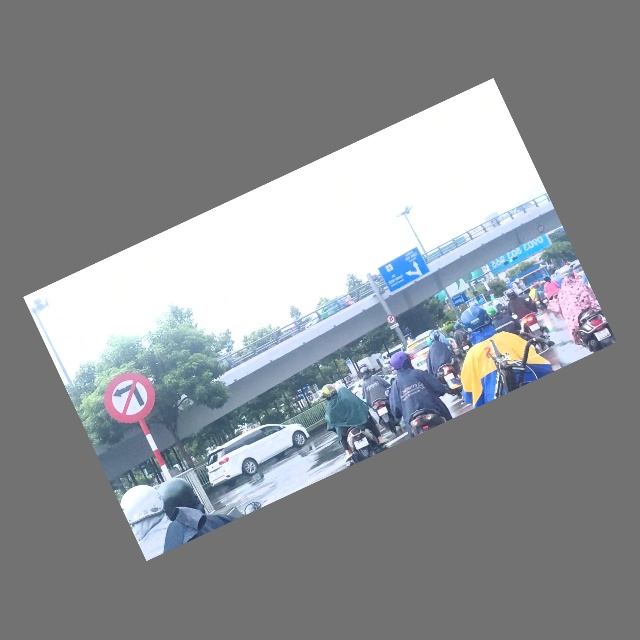P.123b: (92, 361, 169, 435)
P.124b1: (384, 313, 398, 327)
